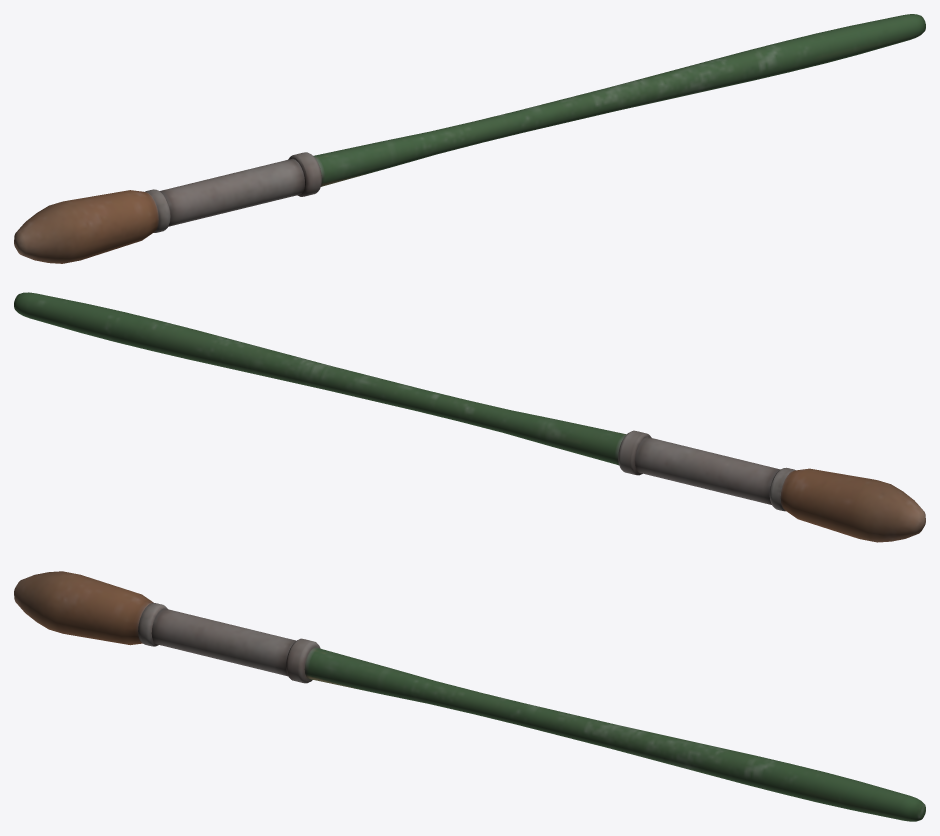
File: SM_PaintBrush_02.fbx
The picture shows the model from 3 angles, top to bottom: view 1: azimuth 30°, elevation 25°; view 2: azimuth 150°, elevation 25°; view 3: azimuth 330°, elevation 25°; orthographic projection.
Parts seen in each view (by area): view 1: SM_PaintBrush_02_LOD0; view 2: SM_PaintBrush_02_LOD0; view 3: SM_PaintBrush_02_LOD0.
Boxes of the visible parts, x1,y1,x2,y2 form: SM_PaintBrush_02_LOD0: (14, 14, 925, 263); SM_PaintBrush_02_LOD0: (14, 292, 925, 542); SM_PaintBrush_02_LOD0: (14, 571, 925, 821).
Bounding box in the file's own units: 44.84 × 2.66 × 2.66.
1 material, 1 textured.
